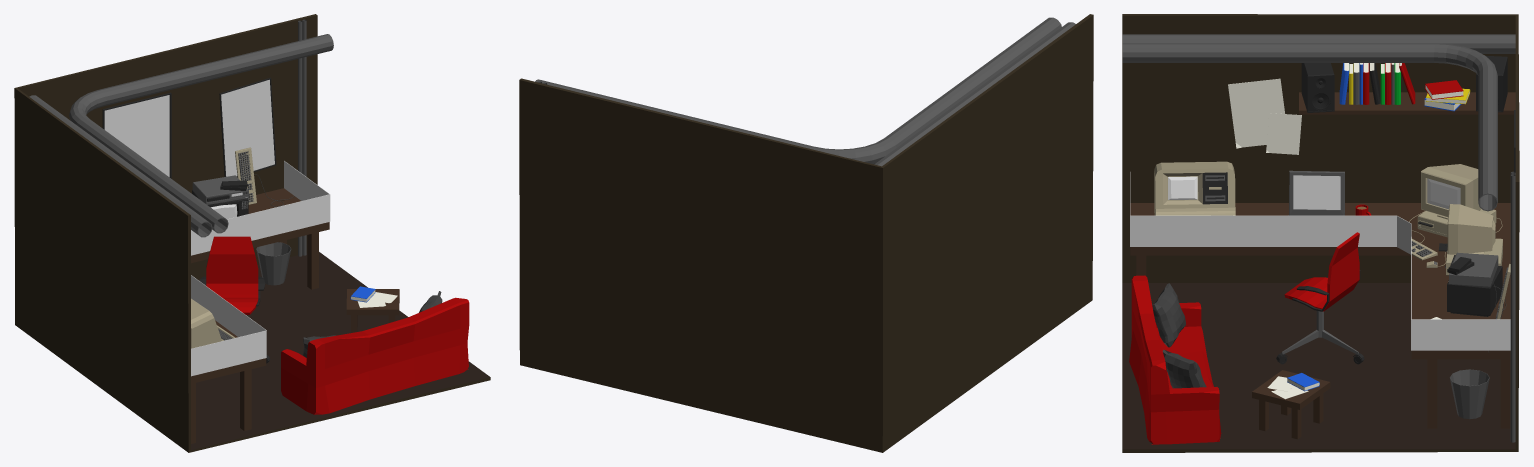
The model's file is room-fbx.fbx.
3 views of the same model, side by side, from view 1: azimuth 30°, elevation 25°; view 2: azimuth 150°, elevation 25°; view 3: azimuth 270°, elevation 25° (orthographic). The views are drawn at different scales.
Parts seen in each view (by area): view 1: Mura, Divanetto, Tubo2, Poster2, Poster1, Sedia, Wall4, Wall1, Wall2, Tv, Scrivania2, Tubo1 (+10 smaller); view 2: Mura, Tubo2, Tubo1; view 3: Mura, Tubo2, Divanetto, Wall2, Scrivania1, Tubo1, Scrivania2, PCEpoca, Wall5, Foglio2.002, Tv, Monitor2 (+20 smaller).
Boxes of the visible parts, bbox=[...] form: Mura: bbox=[14, 14, 490, 452]; Divanetto: bbox=[281, 297, 469, 414]; Tubo2: bbox=[69, 34, 333, 233]; Poster2: bbox=[219, 77, 276, 177]; Poster1: bbox=[102, 92, 171, 178]; Sedia: bbox=[206, 236, 258, 314]; Wall4: bbox=[191, 194, 329, 255]; Wall1: bbox=[191, 330, 266, 376]; Wall2: bbox=[191, 275, 266, 336]; Tv: bbox=[192, 175, 248, 219]; Scrivania2: bbox=[191, 188, 329, 263]; Tubo1: bbox=[29, 95, 212, 237]; Mura: bbox=[519, 14, 1093, 452]; Tubo2: bbox=[535, 17, 1061, 164]; Tubo1: bbox=[874, 22, 1075, 166]; Mura: bbox=[1122, 14, 1519, 452]; Tubo2: bbox=[1122, 43, 1497, 211]; Divanetto: bbox=[1129, 275, 1221, 444]; Wall2: bbox=[1130, 215, 1396, 246]; Scrivania1: bbox=[1130, 203, 1510, 255]; Tubo1: bbox=[1122, 34, 1515, 53]; Scrivania2: bbox=[1411, 246, 1510, 359]; PCEpoca: bbox=[1154, 161, 1235, 215]; Wall5: bbox=[1411, 319, 1510, 350]; Foglio2.002: bbox=[1228, 78, 1284, 148]; Tv: bbox=[1447, 252, 1502, 316]; Monitor2: bbox=[1421, 164, 1481, 219].
Size of what is drawn, in the model's own units: 808 by 608 by 808.
